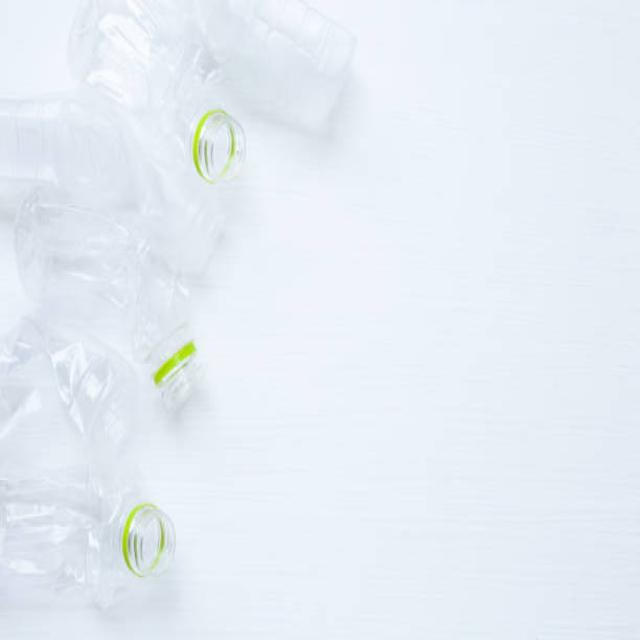plastic: (42, 63, 230, 596)
